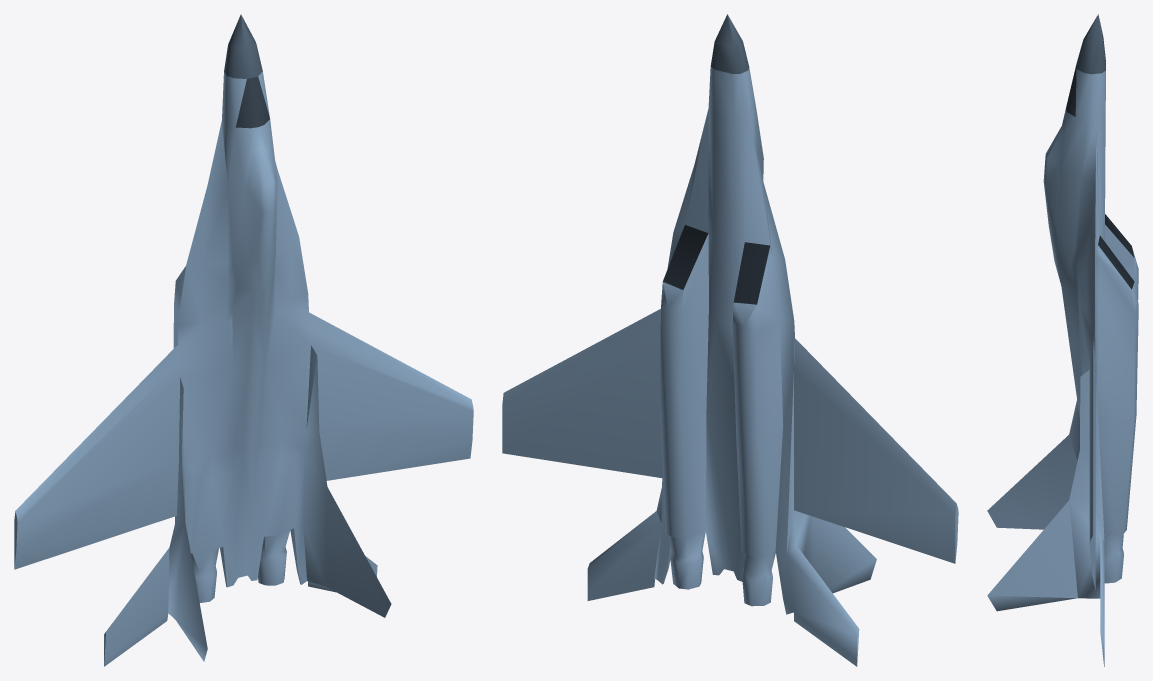
Rendered from mig29.glb.
3 views of the same model, side by side, from view 1: azimuth 30°, elevation 25°; view 2: azimuth 150°, elevation 25°; view 3: azimuth 270°, elevation 25° (orthographic). The views are drawn at different scales.
Visible parts, largest first — view 1: db_fulcrum_l39_LOD child0_body_p13873_Geometry_0.001, db_fulcrum_l39_LOD child0_wing2_p13928_Geometry_0.001, db_fulcrum_l39_LOD child0_wing1_p13925_Geometry_0.001, db_fulcrum_l39_LOD child0_rudder1_p13881_Geometry_0.001, db_fulcrum_l39_LOD child0_rudder2_p13888_Geometry_0.001, db_fulcrum_l39_LOD child0_elev2_p13935_Geometry_0.001, db_fulcrum_l39_LOD child0_cpit_p13747_Geometry_0.001, db_fulcrum_l39_LOD child0_body_pl1_Geometry_0.001, db_fulcrum_l39_LOD child0_exhaust_p13899_Geometry_0.001, db_fulcrum_l39_LOD child0_body_p13866_Geometry_0.001, db_fulcrum_l39_LOD child0_o2573_p13705_Geometry_0.001; view 2: db_fulcrum_l39_LOD child0_body_p13873_Geometry_0.001, db_fulcrum_l39_LOD child0_wing2_p13928_Geometry_0.001, db_fulcrum_l39_LOD child0_wing1_p13925_Geometry_0.001, db_fulcrum_l39_LOD child0_elev2_p13935_Geometry_0.001, db_fulcrum_l39_LOD child0_elev1_p13955_Geometry_0.001, db_fulcrum_l39_LOD child0_rudder2_p13888_Geometry_0.001, db_fulcrum_l39_LOD child0_exhaust_p13899_Geometry_0.001, db_fulcrum_l39_LOD child0_intake2_p13898_Geometry_0.001, db_fulcrum_l39_LOD child0_intake1_p13897_Geometry_0.001, db_fulcrum_l39_LOD child0_o2573_p13705_Geometry_0.001, db_fulcrum_l39_LOD child0_body_pl1_Geometry_0.001; view 3: db_fulcrum_l39_LOD child0_body_p13873_Geometry_0.001, db_fulcrum_l39_LOD child0_rudder1_p13881_Geometry_0.001, db_fulcrum_l39_LOD child0_rudder2_p13888_Geometry_0.001, db_fulcrum_l39_LOD child0_wing1_p13925_Geometry_0.001, db_fulcrum_l39_LOD child0_cpit_p13747_Geometry_0.001, db_fulcrum_l39_LOD child0_body_pl1_Geometry_0.001, db_fulcrum_l39_LOD child0_exhaust_p13899_Geometry_0.001, db_fulcrum_l39_LOD child0_elev1_p13955_Geometry_0.001, db_fulcrum_l39_LOD child0_intake1_p13897_Geometry_0.001, db_fulcrum_l39_LOD child0_body_p13866_Geometry_0.001, db_fulcrum_l39_LOD child0_intake2_p13898_Geometry_0.001.
Boxes of the visible parts, bbox=[...] form: db_fulcrum_l39_LOD child0_body_p13873_Geometry_0.001: bbox=[173, 71, 319, 587]; db_fulcrum_l39_LOD child0_wing2_p13928_Geometry_0.001: bbox=[14, 345, 179, 569]; db_fulcrum_l39_LOD child0_wing1_p13925_Geometry_0.001: bbox=[309, 312, 473, 480]; db_fulcrum_l39_LOD child0_rudder1_p13881_Geometry_0.001: bbox=[303, 430, 391, 617]; db_fulcrum_l39_LOD child0_rudder2_p13888_Geometry_0.001: bbox=[168, 460, 207, 661]; db_fulcrum_l39_LOD child0_elev2_p13935_Geometry_0.001: bbox=[104, 547, 169, 666]; db_fulcrum_l39_LOD child0_cpit_p13747_Geometry_0.001: bbox=[248, 147, 275, 260]; db_fulcrum_l39_LOD child0_body_pl1_Geometry_0.001: bbox=[224, 14, 262, 78]; db_fulcrum_l39_LOD child0_exhaust_p13899_Geometry_0.001: bbox=[258, 530, 290, 585]; db_fulcrum_l39_LOD child0_body_p13866_Geometry_0.001: bbox=[235, 76, 269, 128]; db_fulcrum_l39_LOD child0_o2573_p13705_Geometry_0.001: bbox=[191, 548, 218, 602]; db_fulcrum_l39_LOD child0_body_p13873_Geometry_0.001: bbox=[656, 67, 796, 614]; db_fulcrum_l39_LOD child0_wing2_p13928_Geometry_0.001: bbox=[794, 338, 958, 563]; db_fulcrum_l39_LOD child0_wing1_p13925_Geometry_0.001: bbox=[502, 309, 662, 477]; db_fulcrum_l39_LOD child0_elev2_p13935_Geometry_0.001: bbox=[787, 545, 859, 666]; db_fulcrum_l39_LOD child0_elev1_p13955_Geometry_0.001: bbox=[587, 511, 661, 600]; db_fulcrum_l39_LOD child0_rudder2_p13888_Geometry_0.001: bbox=[794, 510, 876, 593]; db_fulcrum_l39_LOD child0_exhaust_p13899_Geometry_0.001: bbox=[668, 532, 705, 589]; db_fulcrum_l39_LOD child0_intake2_p13898_Geometry_0.001: bbox=[733, 242, 769, 304]; db_fulcrum_l39_LOD child0_intake1_p13897_Geometry_0.001: bbox=[663, 225, 708, 289]; db_fulcrum_l39_LOD child0_o2573_p13705_Geometry_0.001: bbox=[742, 551, 775, 606]; db_fulcrum_l39_LOD child0_body_pl1_Geometry_0.001: bbox=[710, 14, 749, 73]; db_fulcrum_l39_LOD child0_body_p13873_Geometry_0.001: bbox=[1049, 69, 1138, 540]; db_fulcrum_l39_LOD child0_rudder1_p13881_Geometry_0.001: bbox=[987, 449, 1100, 611]; db_fulcrum_l39_LOD child0_rudder2_p13888_Geometry_0.001: bbox=[987, 400, 1079, 529]; db_fulcrum_l39_LOD child0_wing1_p13925_Geometry_0.001: bbox=[1089, 341, 1095, 590]; db_fulcrum_l39_LOD child0_cpit_p13747_Geometry_0.001: bbox=[1043, 126, 1063, 234]; db_fulcrum_l39_LOD child0_body_pl1_Geometry_0.001: bbox=[1076, 14, 1105, 74]; db_fulcrum_l39_LOD child0_exhaust_p13899_Geometry_0.001: bbox=[1104, 534, 1123, 583]; db_fulcrum_l39_LOD child0_elev1_p13955_Geometry_0.001: bbox=[1100, 536, 1104, 666]; db_fulcrum_l39_LOD child0_intake1_p13897_Geometry_0.001: bbox=[1098, 236, 1134, 289]; db_fulcrum_l39_LOD child0_body_p13866_Geometry_0.001: bbox=[1066, 65, 1076, 116]; db_fulcrum_l39_LOD child0_intake2_p13898_Geometry_0.001: bbox=[1105, 214, 1134, 257].
Size of the model in its own units: 15.68 by 20.45 by 4.77.
